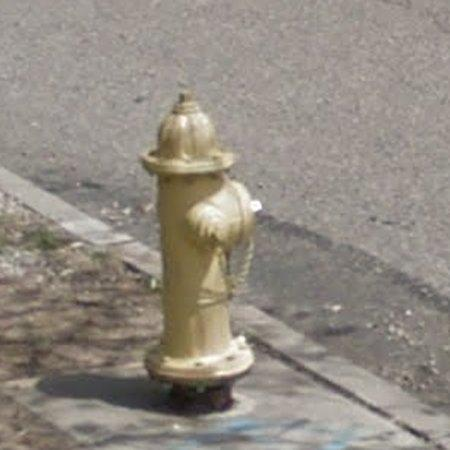a fire hydrant: (142, 92, 257, 390)
